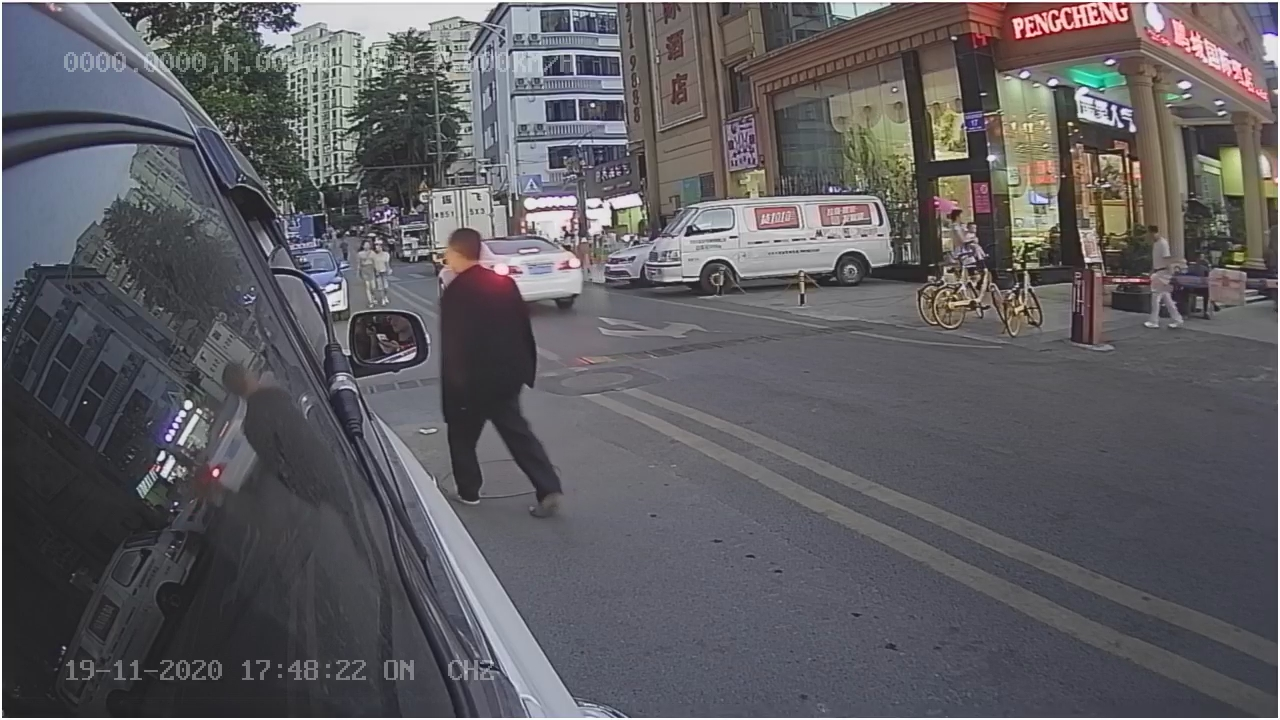person: (430, 227, 543, 448)
